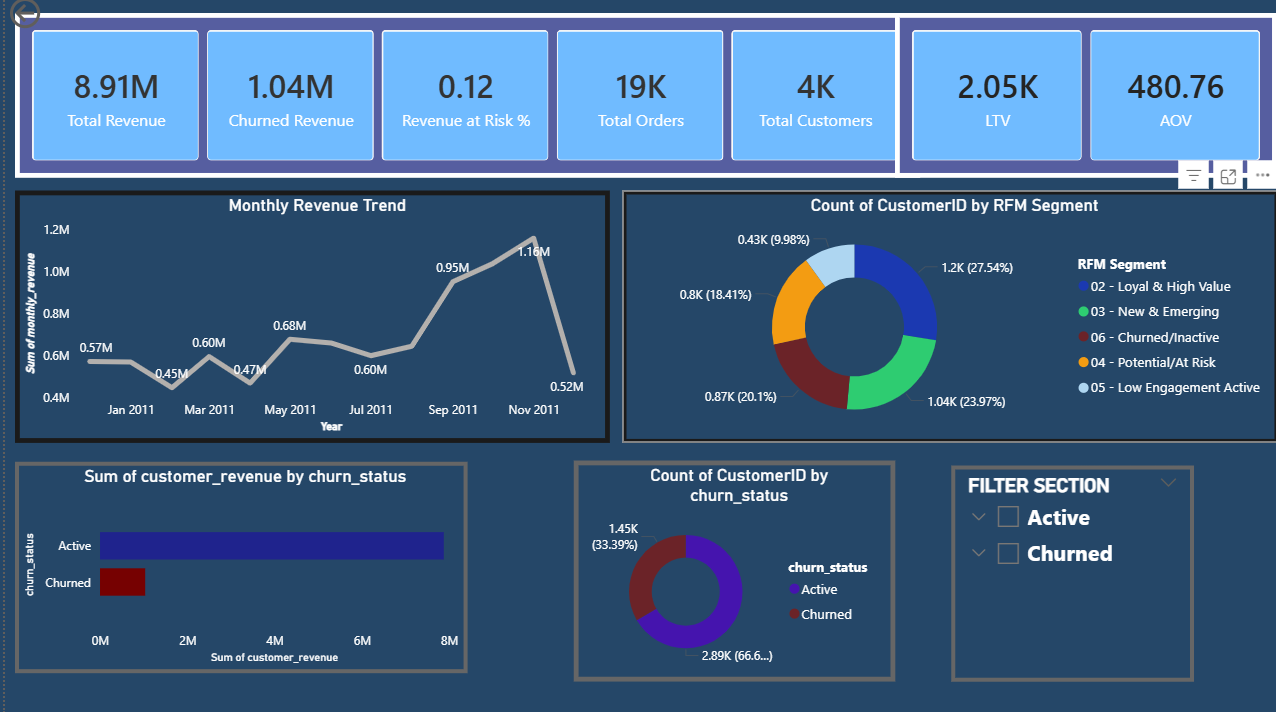

The page's visual inventory and layout, read from the dashboard file:
{"tool":"powerbi","page":{"name":"Page 1","canvas":[1280,720],"ordinal":0},"visuals":[{"type":"lineChart","fields":{"Category":["Query1.month.Variation.Date Hierarchy.Year","Query1.month.Variation.Date Hierarchy.Quarter","Query1.month.Variation.Date Hierarchy.Month","Query1.month.Variation.Date Hierarchy.Day"],"Y":["Sum(Query1.monthly_revenue)"]},"box":[2.5,196.5,592.1,251.3],"z":0},{"type":"barChart","fields":{"Category":["fact_customer_revenue.CustomerID"],"Y":["Sum(fact_customer_revenue.customer_revenue)"]},"box":[330.9,471.5,332.1,215.2],"z":1000},{"type":"donutChart","fields":{"Category":["dim_customer_churn.churn_status"],"Y":["CountNonNull(dim_customer_churn.CustomerID)"]},"box":[674.2,471.5,247.5,220.2],"z":2000},{"type":"barChart","fields":{"Category":["dim_customer_churn.churn_status"],"Y":["Sum(fact_customer_revenue.customer_revenue)"]},"box":[0,476.4,322.2,210.2],"z":3000},{"type":"cardVisual","fields":{"Data":["fact_customer_revenue.Total Revenue","dim_customer_churn.Churned Revenue","dim_customer_churn.Revenue at Risk %","dim_customer_churn.Total Orders Dynamic","dim_customer_churn.Total Customers Dynamic"]},"box":[10,19.9,900.6,164.2],"z":4000},{"type":"actionButton","box":[0,0,100,40],"z":5000},{"type":"slicer","fields":{"Values":["dim_customer_churn.churn_status","Query1.month"]},"box":[965.3,476.4,253.8,186.6],"z":6000},{"type":"cardVisual","fields":{"Data":["dim_customer_churn.LTV","fact_customer_revenue.AOV"]},"box":[885.7,19.9,394.3,164.2],"z":7000},{"type":"donutChart","fields":{"Category":["fact_rfm.RFM Segment"],"Y":["Count(dim_customer_churn.CustomerID)"]},"box":[663,196.5,521.2,251.3],"z":8000}]}

Visuals, with their boxes in screenshot pixels (x1, y1, x2, y2), scaled from the page's 1280x720 canvas onto the 1276x712 screenshot:
lineChart - Query1.month.Variation.Date Hierarchy.Year x Query1.month.Variation.Date Hierarchy.Quarter: {"left": 2, "top": 194, "right": 593, "bottom": 443}
barChart - fact_customer_revenue.CustomerID x Sum(fact_customer_revenue.customer_revenue): {"left": 330, "top": 466, "right": 661, "bottom": 679}
donutChart - dim_customer_churn.churn_status x CountNonNull(dim_customer_churn.CustomerID): {"left": 672, "top": 466, "right": 919, "bottom": 684}
barChart - dim_customer_churn.churn_status x Sum(fact_customer_revenue.customer_revenue): {"left": 0, "top": 471, "right": 321, "bottom": 679}
cardVisual - fact_customer_revenue.Total Revenue x dim_customer_churn.Churned Revenue: {"left": 10, "top": 20, "right": 908, "bottom": 182}
actionButton: {"left": 0, "top": 0, "right": 100, "bottom": 40}
slicer - dim_customer_churn.churn_status x Query1.month: {"left": 962, "top": 471, "right": 1215, "bottom": 656}
cardVisual - dim_customer_churn.LTV x fact_customer_revenue.AOV: {"left": 883, "top": 20, "right": 1275, "bottom": 182}
donutChart - fact_rfm.RFM Segment x Count(dim_customer_churn.CustomerID): {"left": 661, "top": 194, "right": 1180, "bottom": 443}
